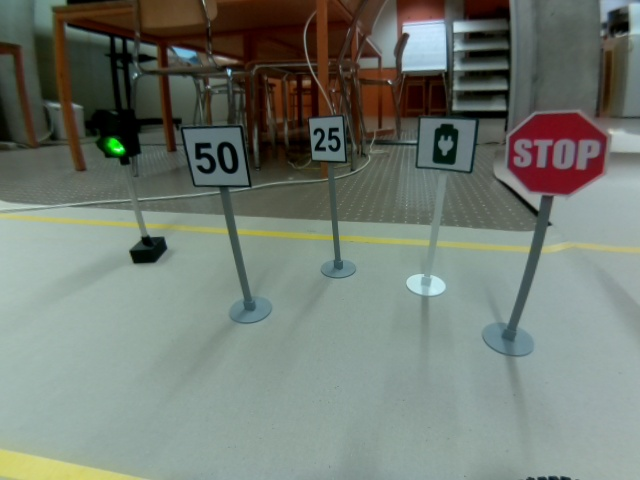battery: (414, 113, 479, 177)
speed25: (307, 115, 348, 166)
speed50: (180, 125, 253, 189)
stop: (504, 109, 615, 200)
traffic light: (91, 103, 142, 160)
